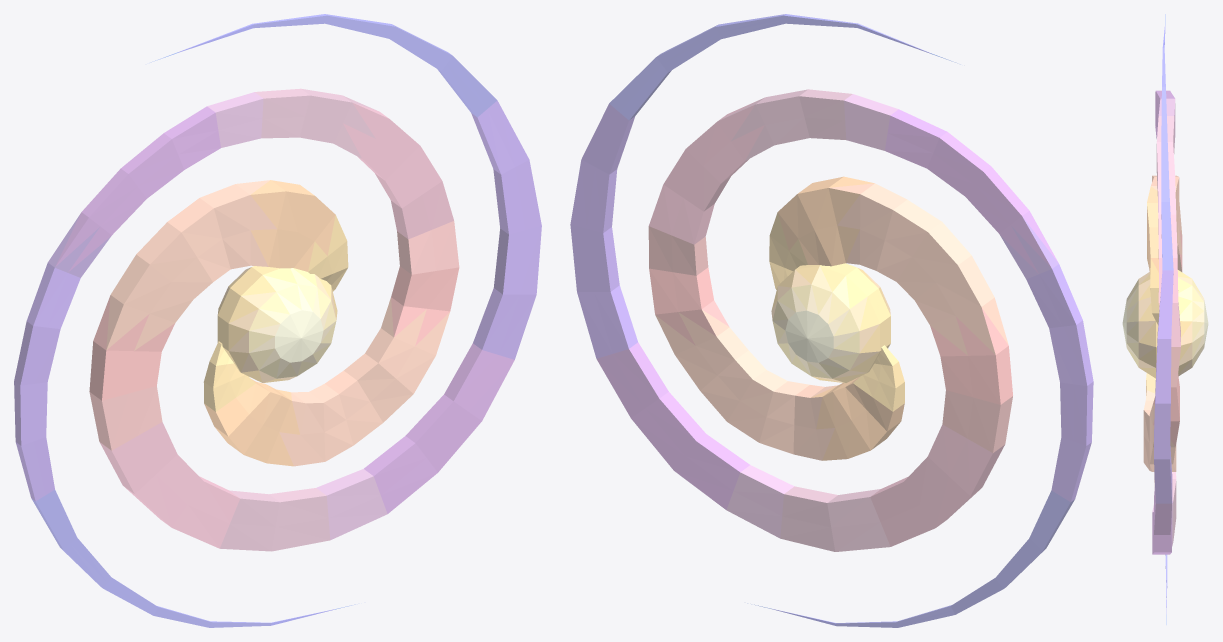
The model's file is galaxy-009.glb.
The picture shows the model from 3 angles, left to right: view 1: azimuth 30°, elevation 25°; view 2: azimuth 150°, elevation 25°; view 3: azimuth 270°, elevation 25°; orthographic projection. The views are drawn at different scales.
Visible parts, largest first — view 1: galaxy-009; view 2: galaxy-009; view 3: galaxy-009.
Part boxes in pixels (x1,y1,x2,y2): galaxy-009: (14,14,541,627); galaxy-009: (570,14,1093,627); galaxy-009: (1122,14,1208,624).
Size of the model in its own units: 118 by 132 by 19.42.
